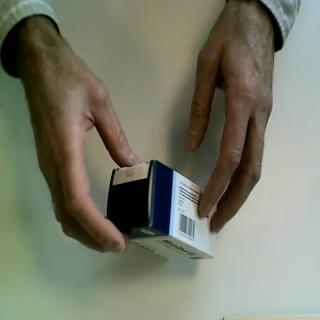sobril25mg: (105, 159, 220, 264)
